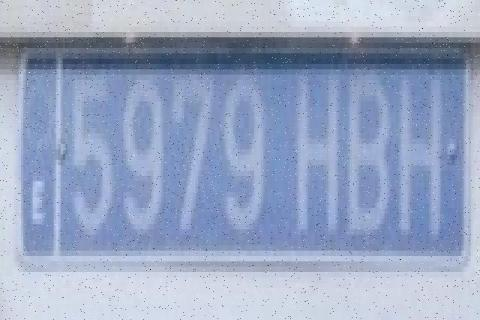LicensePlate: (17, 48, 472, 264)
